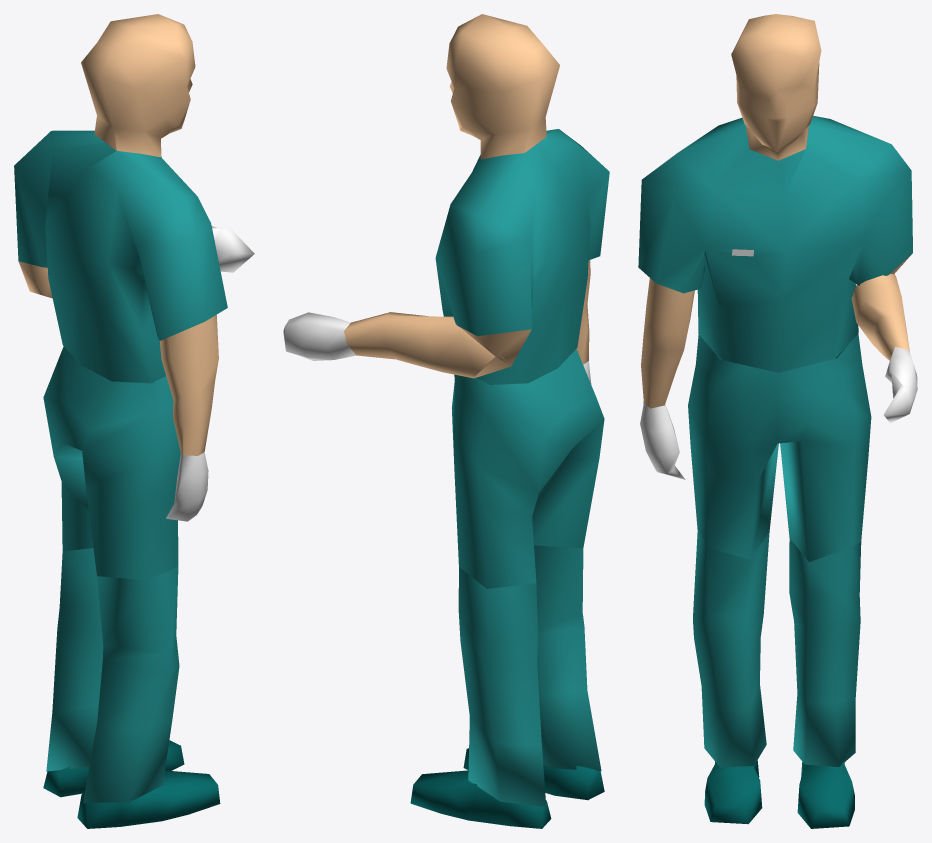
3 views of the same model, side by side, from view 1: azimuth 30°, elevation 25°; view 2: azimuth 150°, elevation 25°; view 3: azimuth 270°, elevation 25° (orthographic). The views are drawn at different scales.
Parts seen in each view (by area): view 1: G_3D_Man_Standing1; view 2: G_3D_Man_Standing1; view 3: G_3D_Man_Standing1.
Part boxes in pixels (x1,y1,x2,y2): G_3D_Man_Standing1: (14, 14, 254, 828); G_3D_Man_Standing1: (283, 14, 609, 828); G_3D_Man_Standing1: (638, 14, 917, 828).
Bounding box in the file's own units: 23.93 × 70.93 × 22.98.
